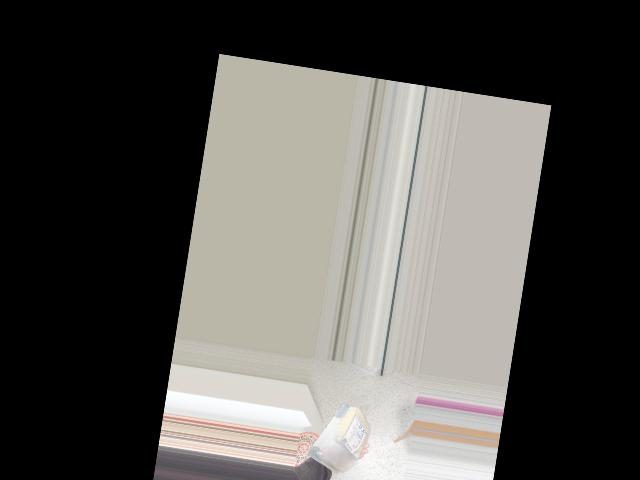cheese: (305, 395, 376, 480)
